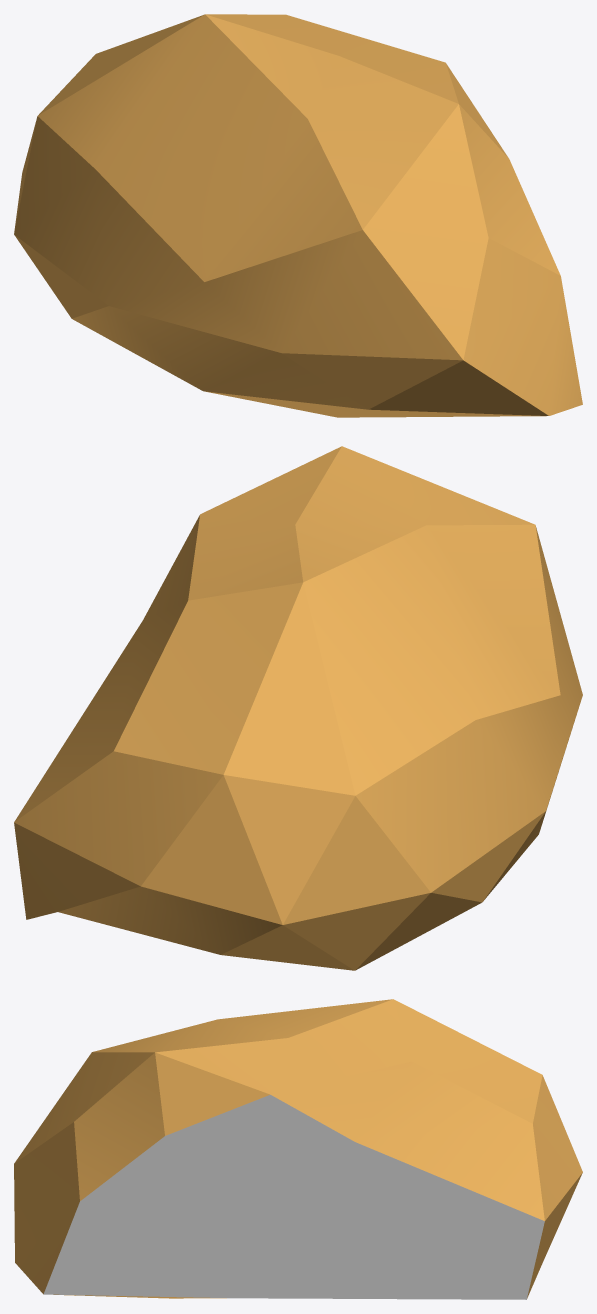
The model's file is runestone2.fbx.
The picture shows the model from 3 angles, top to bottom: view 1: azimuth 30°, elevation 25°; view 2: azimuth 150°, elevation 25°; view 3: azimuth 270°, elevation 25°; orthographic projection. The views are drawn at different scales.
Visible parts, largest first — view 1: runestone2; view 2: runestone2; view 3: runestone2.
Part boxes in pixels (x1,y1,x2,y2): runestone2: (14, 14, 582, 417); runestone2: (14, 446, 582, 970); runestone2: (14, 999, 582, 1299).
Bounding box in the file's own units: 1.64 × 0.8868 × 0.7906.
